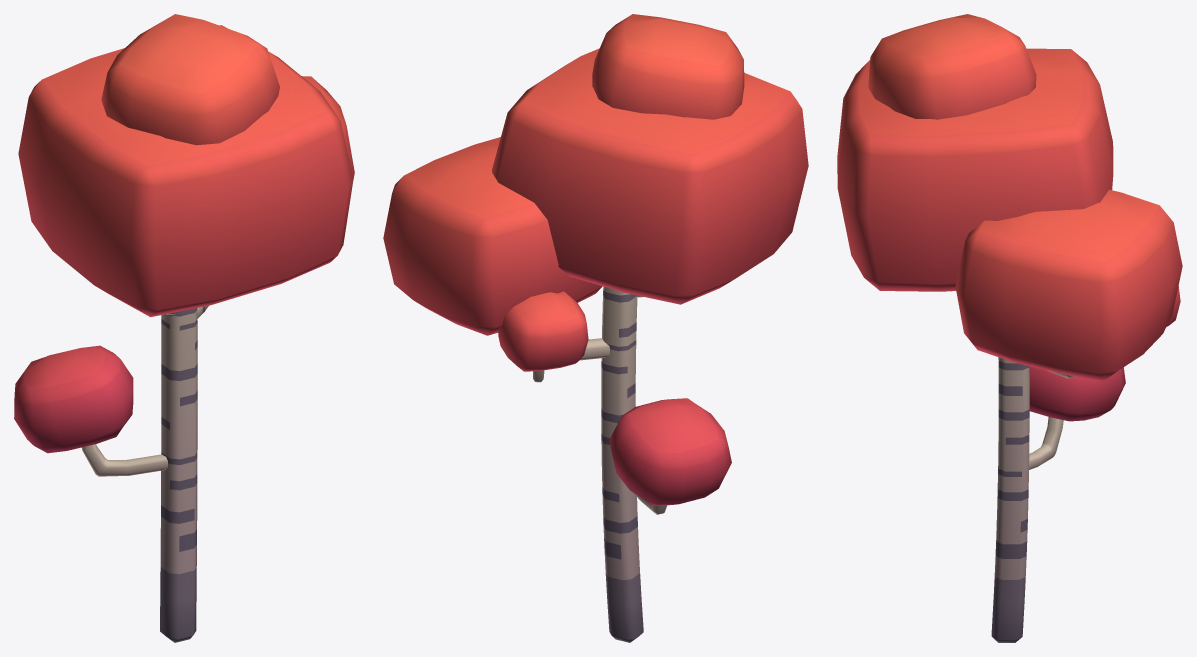
The picture shows the model from 3 angles, left to right: view 1: azimuth 30°, elevation 25°; view 2: azimuth 150°, elevation 25°; view 3: azimuth 270°, elevation 25°; orthographic projection. The views are drawn at different scales.
Visible parts, largest first — view 1: birch_tree_SC_free; view 2: birch_tree_SC_free; view 3: birch_tree_SC_free.
Part boxes in pixels (bbox=[...]): birch_tree_SC_free: bbox=[14, 14, 354, 642]; birch_tree_SC_free: bbox=[383, 14, 808, 642]; birch_tree_SC_free: bbox=[837, 14, 1182, 642].
Size of the model in its own units: 526 by 937 by 483.
1 material, 1 textured.
